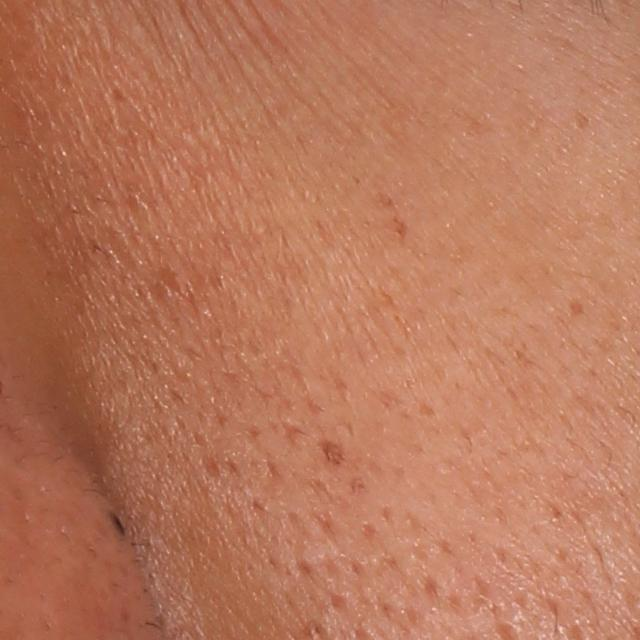atrophic_scar: (446, 574, 499, 620)
melasma: (373, 186, 412, 242), (571, 108, 592, 131)
